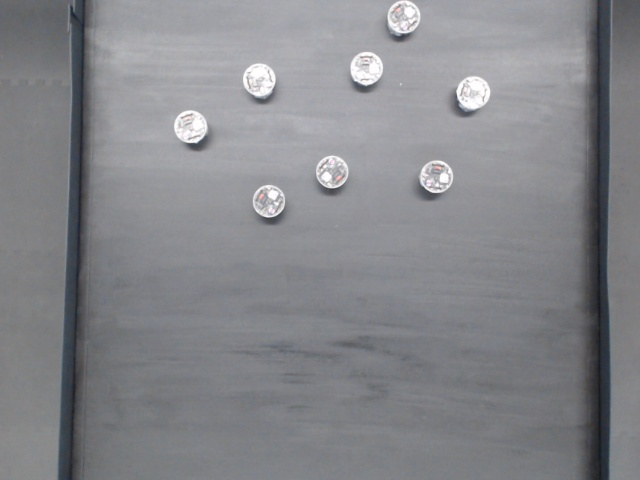epuck_2: (241, 62, 277, 98), (419, 158, 454, 195), (456, 76, 492, 111), (349, 51, 384, 86), (173, 110, 209, 144), (251, 184, 287, 218), (387, 1, 420, 36), (315, 156, 349, 188)
